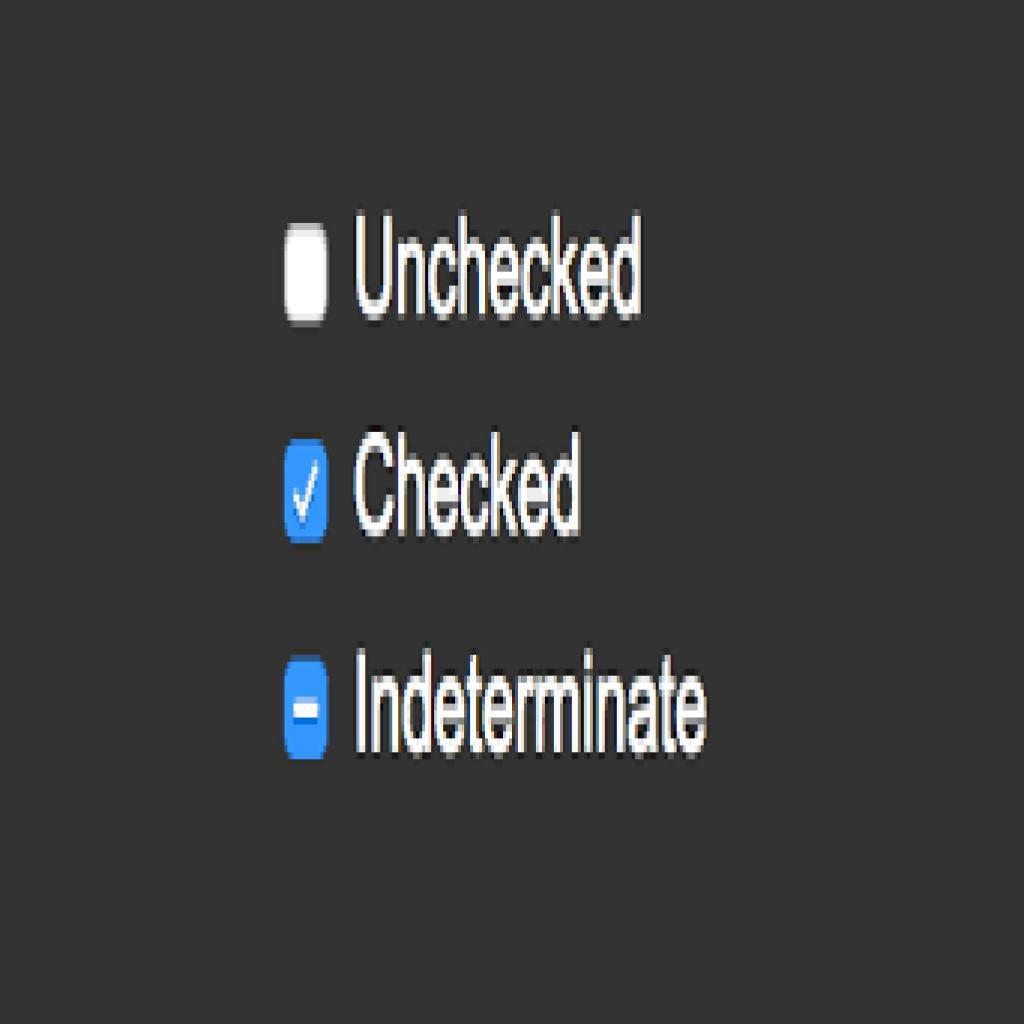checkbox: (283, 656, 331, 764), (283, 440, 330, 548), (287, 223, 328, 331)
